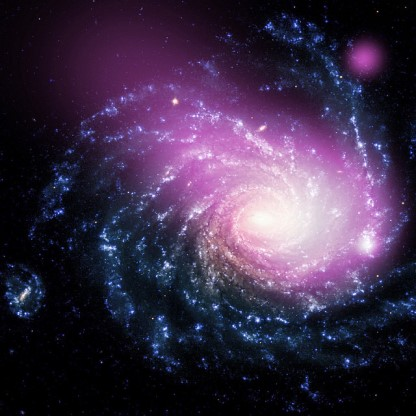NGC 1232: (6, 22, 414, 394)
